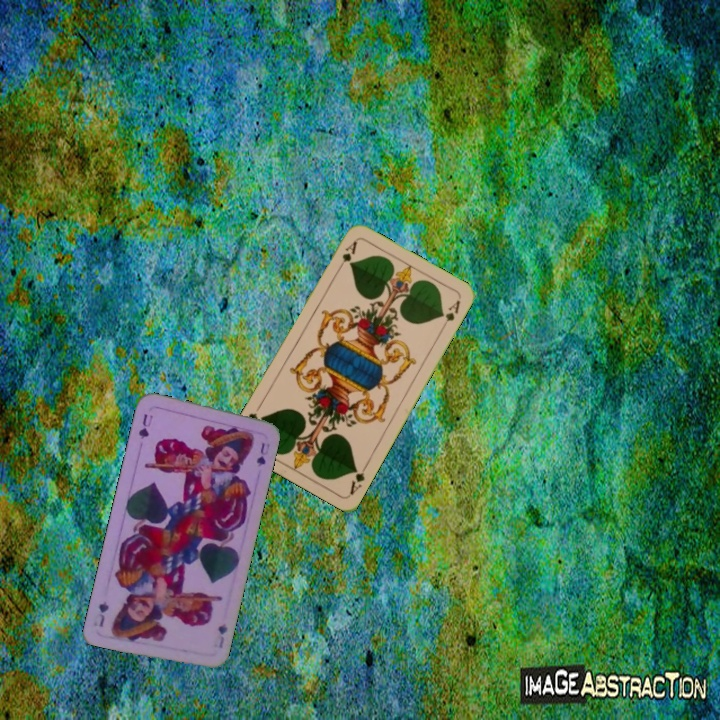GA: (346, 459, 371, 498), (334, 237, 360, 274)
GU: (134, 410, 155, 442), (212, 619, 230, 651)
